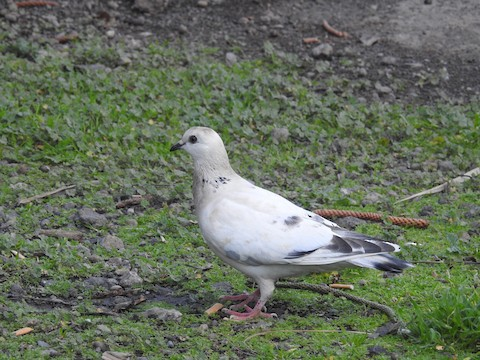pigeon: (163, 122, 416, 326)
